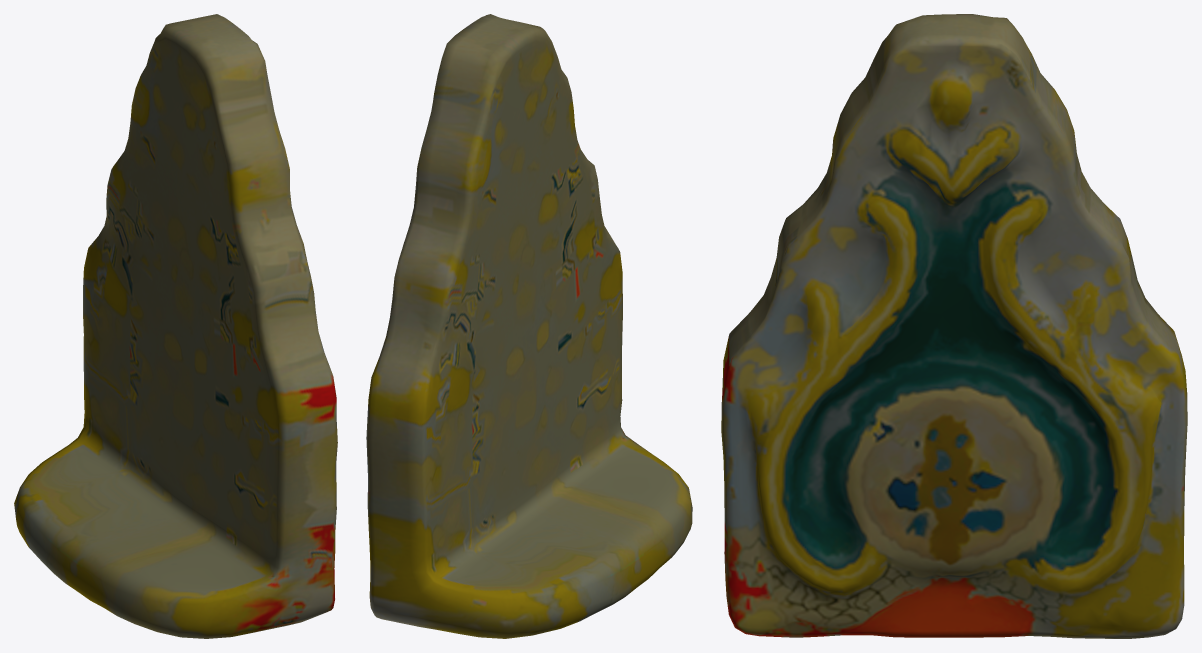
The model's file is 13.tile.glb.
3 renders of one model, left to right at view 1: azimuth 30°, elevation 25°; view 2: azimuth 150°, elevation 25°; view 3: azimuth 270°, elevation 25°, orthographic. The views are drawn at different scales.
Parts seen in each view (by area): view 1: Remesh_2.001; view 2: Remesh_2.001; view 3: Remesh_2.001.
Boxes of the visible parts, x1,y1,x2,y2 form: Remesh_2.001: [14, 14, 337, 638]; Remesh_2.001: [366, 14, 692, 638]; Remesh_2.001: [721, 14, 1187, 638].
Bounding box in the file's own units: 0.3559 × 0.9945 × 0.697.
Materials: 1 (1 with a texture image).
